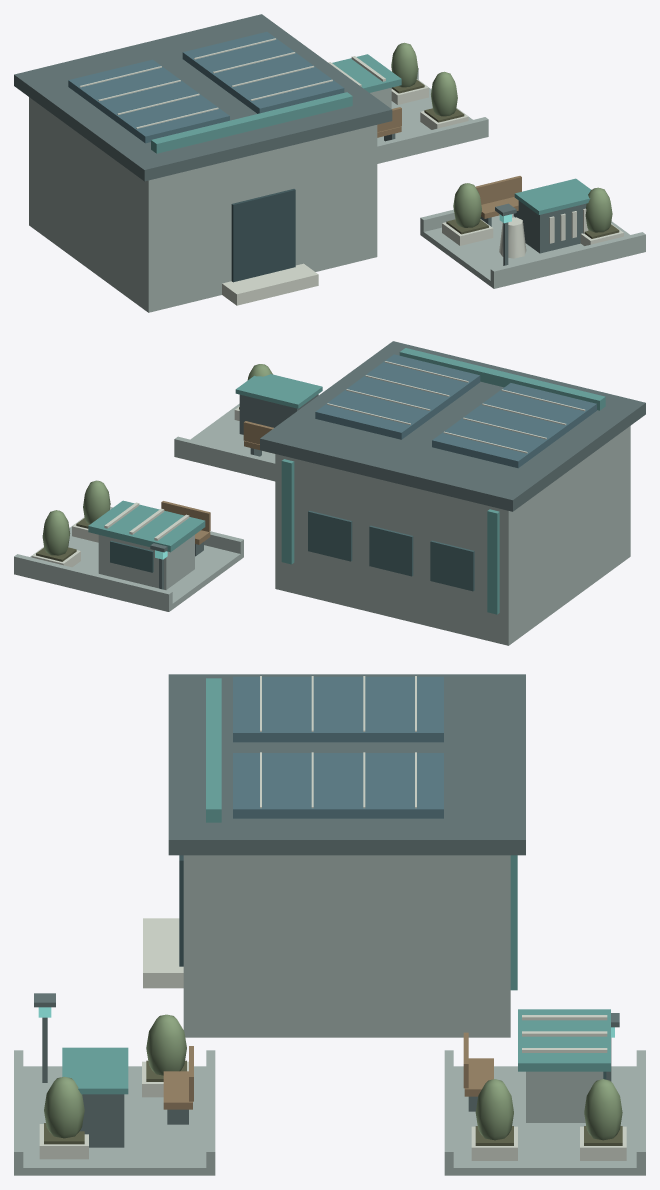
File: nuke.glb
3 views of the same model, one above another, from view 1: azimuth 30°, elevation 25°; view 2: azimuth 150°, elevation 25°; view 3: azimuth 270°, elevation 25° (orthographic). The views are drawn at different scales.
Parts seen in each view (by area): view 1: ARENA wall, ARENA roof, ARENA panel (×3), ARENA stone (×5), ARENA paving (×2), ARENA metal (×2), ARENA window, ARENA leaves (×4), ARENA trim, ARENA canopy, ARENA wood, ARENA trunk; view 2: ARENA wall (×2), ARENA roof, ARENA panel (×3), ARENA window (×4), ARENA metal (×4), ARENA paving (×2), ARENA stone (×3), ARENA canopy, ARENA leaves (×2), ARENA wood (×2); view 3: ARENA wall (×2), ARENA roof, ARENA panel (×3), ARENA paving (×2), ARENA leaves (×4), ARENA stone (×7), ARENA metal (×3), ARENA canopy, ARENA trim, ARENA wood (×2).
Boxes of the visible parts, <box> form: ARENA wall: <box>29,97,377,312</box>; ARENA roof: <box>14,14,392,181</box>; ARENA panel (×3): <box>68,32,591,214</box>; ARENA stone (×5): <box>377,79,645,284</box>; ARENA paving (×2): <box>377,80,645,288</box>; ARENA metal (×2): <box>151,92,586,253</box>; ARENA window: <box>231,189,295,282</box>; ARENA leaves (×4): <box>391,42,612,232</box>; ARENA trim: <box>222,263,318,305</box>; ARENA canopy: <box>332,54,401,92</box>; ARENA wood: <box>475,176,521,204</box>; ARENA trunk: <box>499,217,526,258</box>; ARENA wall (×2): <box>98,426,630,645</box>; ARENA roof: <box>260,341,645,511</box>; ARENA panel (×3): <box>235,354,596,468</box>; ARENA window (×4): <box>110,510,474,591</box>; ARENA metal (×4): <box>239,348,605,614</box>; ARENA paving (×2): <box>14,403,275,611</box>; ARENA stone (×3): <box>14,436,275,608</box>; ARENA canopy: <box>88,500,205,552</box>; ARENA leaves (×2): <box>42,480,110,555</box>; ARENA wood (×2): <box>161,421,273,531</box>; ARENA wall (×2): <box>183,855,603,1122</box>; ARENA roof: <box>168,674,525,855</box>; ARENA panel (×3): <box>62,676,443,1094</box>; ARENA paving (×2): <box>14,1066,645,1175</box>; ARENA leaves (×4): <box>44,1014,622,1140</box>; ARENA stone (×7): <box>14,1050,645,1171</box>; ARENA metal (×3): <box>80,678,517,1147</box>; ARENA canopy: <box>518,1009,610,1071</box>; ARENA trim: <box>143,918,183,988</box>; ARENA wood (×2): <box>163,1058,493,1109</box>.
Size of the model in its own units: 8.17 by 2.81 by 7.34.
